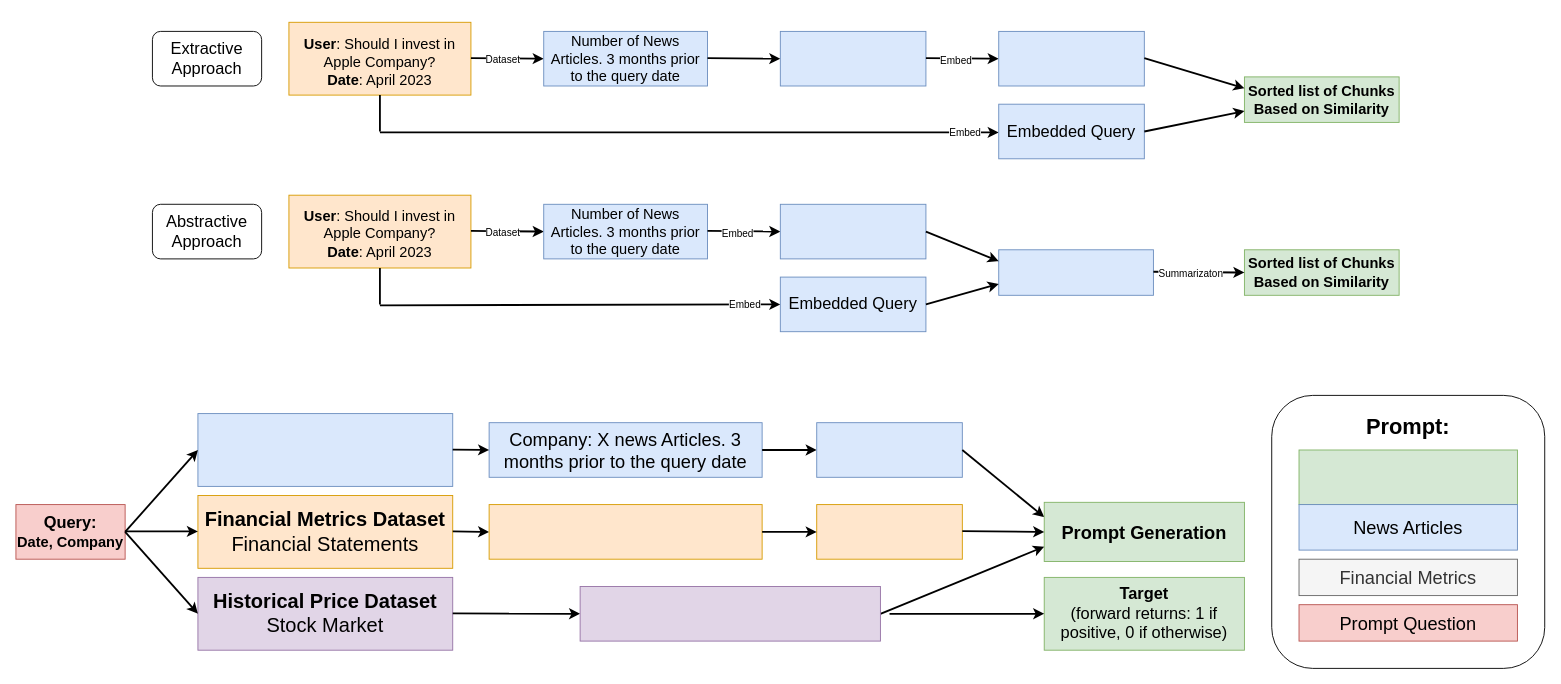
This 1561x684 diagram has some shape labels left out. Each missing label, with the centre of its shape:
"1-3 months Forward Return (Target) Last 4 Quarters Closed Price (Prompt)" goes at (729,613).
"Articles Spited Into Chunks" goes at (852,58).
"Company: X Financials. 4 quarters prior to the query date" goes at (625,531).
"Embedded Articles" goes at (852,231).
"Embedded Chunks" goes at (1071,58).
"General info on company and industry" goes at (1407,477).
"LLM: Trend Extraction" goes at (889,531).
"News Articles Dataset 2022-Present" goes at (325,449).
"Selection / Summarization" goes at (889,449).
"Sorted list of Articles Based on Similarity" goes at (1075,272).
